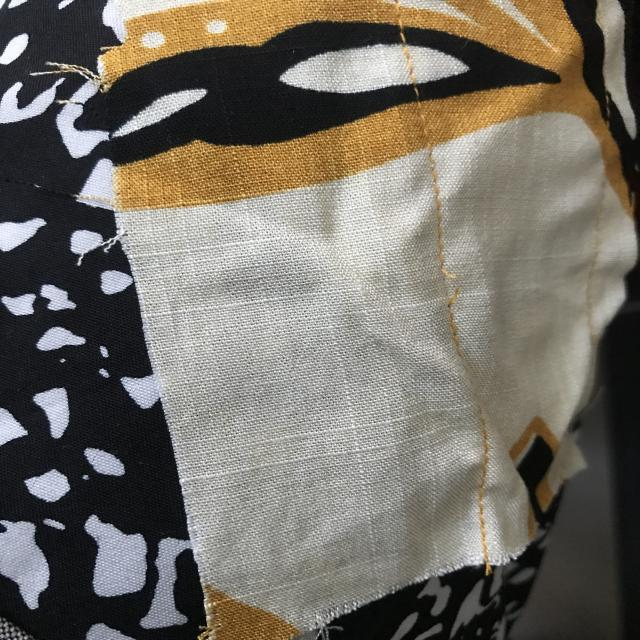broken: (417, 258, 476, 323)
